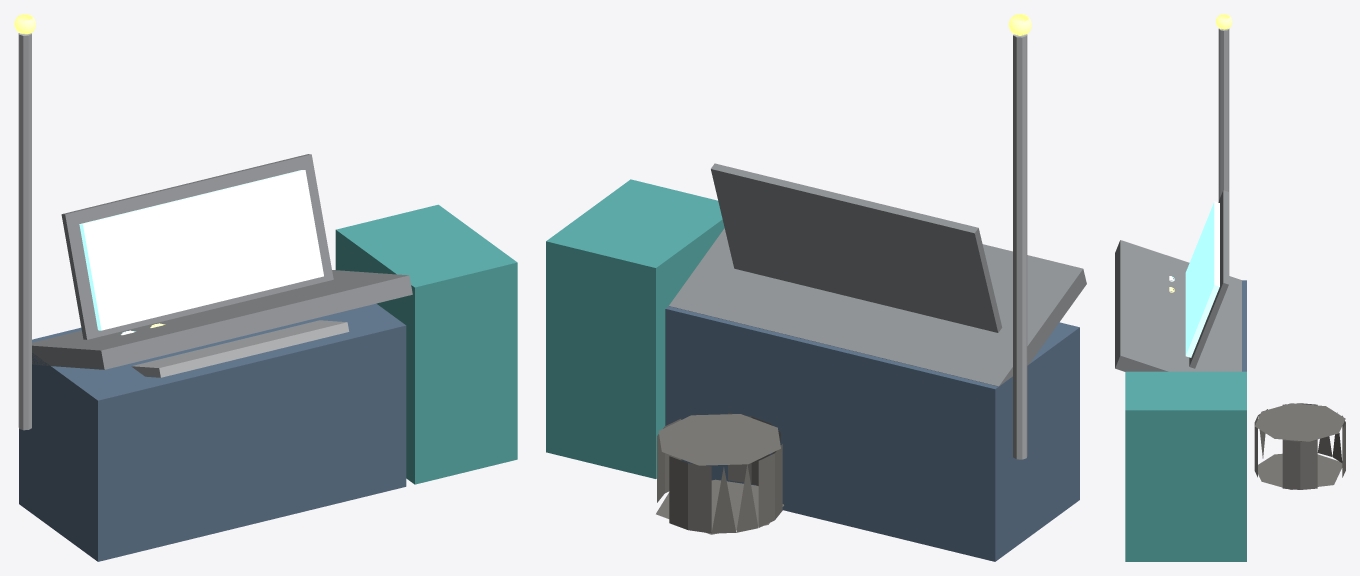
File: control-terminal-lod1.glb
3 views of the same model, side by side, from view 1: azimuth 30°, elevation 25°; view 2: azimuth 150°, elevation 25°; view 3: azimuth 270°, elevation 25° (orthographic). The views are drawn at different scales.
Visible parts, largest first — view 1: Base, SideCabinet, Screen, Desk, ScreenFrame, Mast, Keyboard; view 2: Base, SideCabinet, ScreenFrame, Desk, CableDrum, Mast; view 3: SideCabinet, Desk, CableDrum, Screen, Mast, ScreenFrame, Base.
Boxes of the visible parts, x1,y1,x2,y2 form: Base: (19, 303, 406, 561); SideCabinet: (335, 204, 517, 484); Screen: (79, 170, 323, 330); Desk: (32, 270, 412, 369); ScreenFrame: (61, 154, 333, 339); Mast: (18, 33, 31, 430); Keyboard: (131, 320, 349, 377); Base: (665, 306, 1079, 561); SideCabinet: (546, 179, 724, 478); ScreenFrame: (711, 163, 1002, 332); Desk: (669, 228, 1086, 386); CableDrum: (656, 413, 783, 534); Mast: (1013, 34, 1027, 459); SideCabinet: (1125, 371, 1246, 561); Desk: (1115, 240, 1241, 371); CableDrum: (1254, 403, 1345, 489); Screen: (1185, 201, 1219, 357); Mast: (1218, 28, 1229, 275); ScreenFrame: (1189, 190, 1228, 368); Base: (1242, 280, 1246, 371).
Size of the model in its own units: 2.55 by 2.79 by 1.52.
